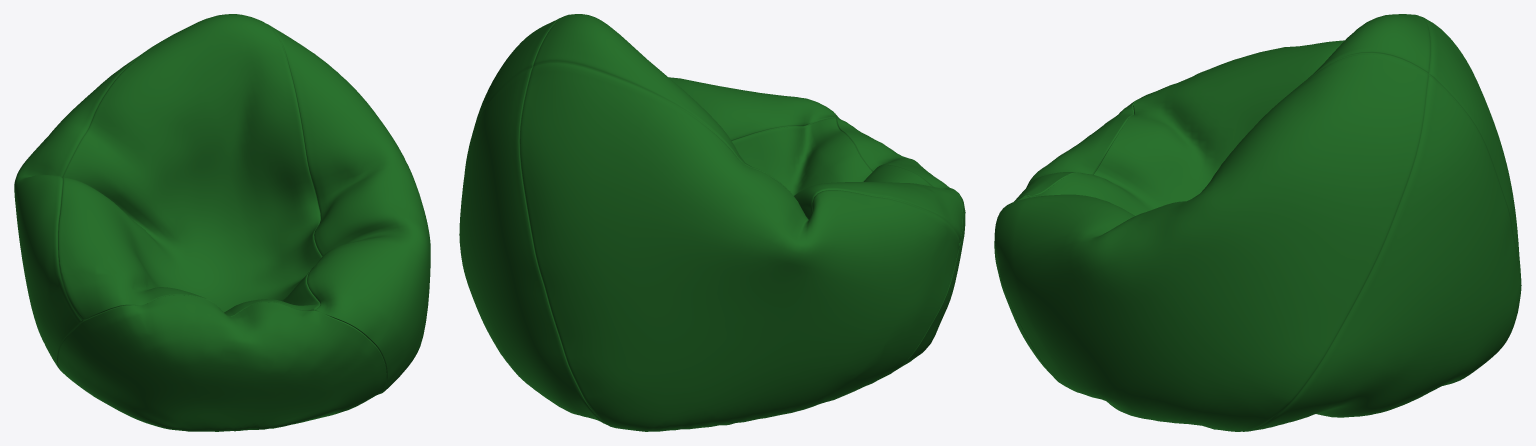
Rendered from bean_bag_green.glb.
The picture shows the model from 3 angles, left to right: view 1: azimuth 30°, elevation 25°; view 2: azimuth 150°, elevation 25°; view 3: azimuth 270°, elevation 25°; orthographic projection. The views are drawn at different scales.
Visible parts, largest first — view 1: bean_bag_chair_mesh_n3d; view 2: bean_bag_chair_mesh_n3d; view 3: bean_bag_chair_mesh_n3d.
Boxes of the visible parts, x1=… form: bean_bag_chair_mesh_n3d: x1=14, y1=14, x2=430, y2=431; bean_bag_chair_mesh_n3d: x1=459, y1=14, x2=965, y2=431; bean_bag_chair_mesh_n3d: x1=994, y1=14, x2=1521, y2=431.
Size of the model in its own units: 1.22 by 0.9303 by 1.24.
